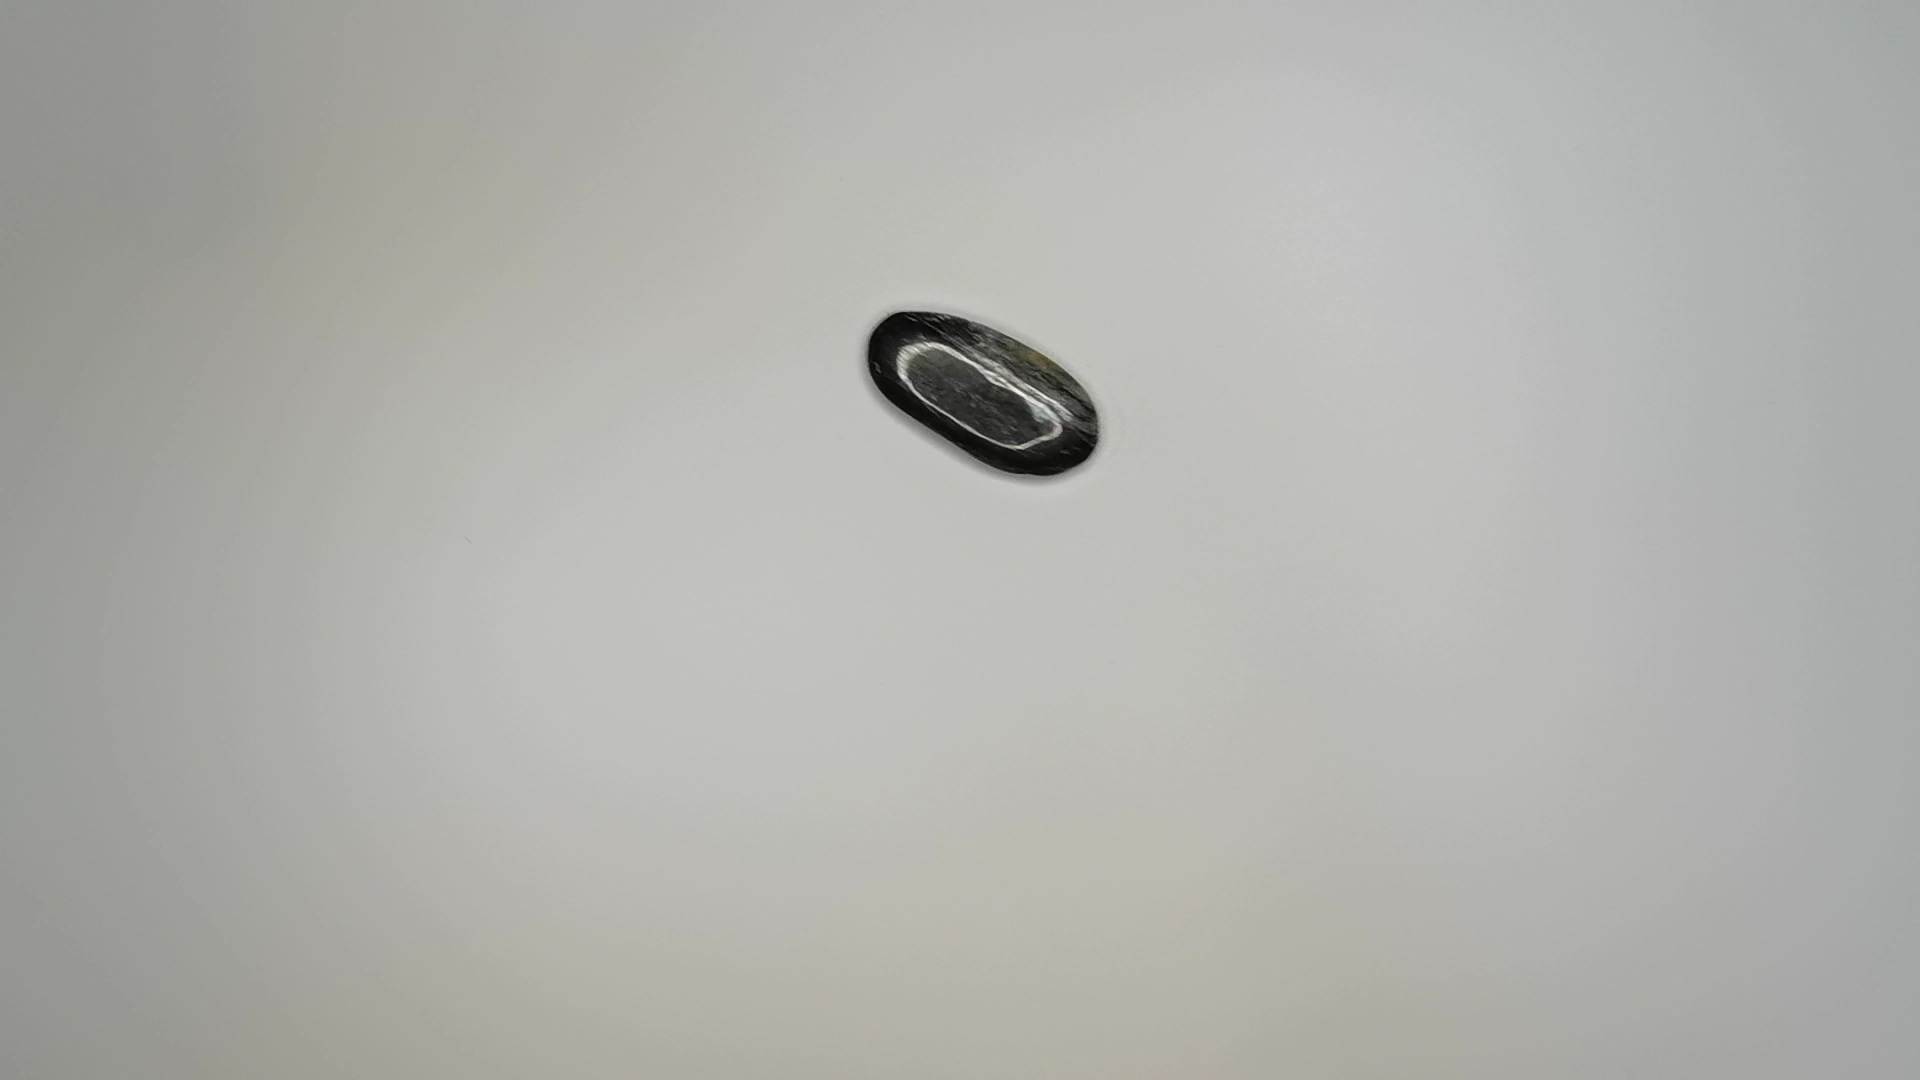ceramic: (866, 306, 1104, 487)
